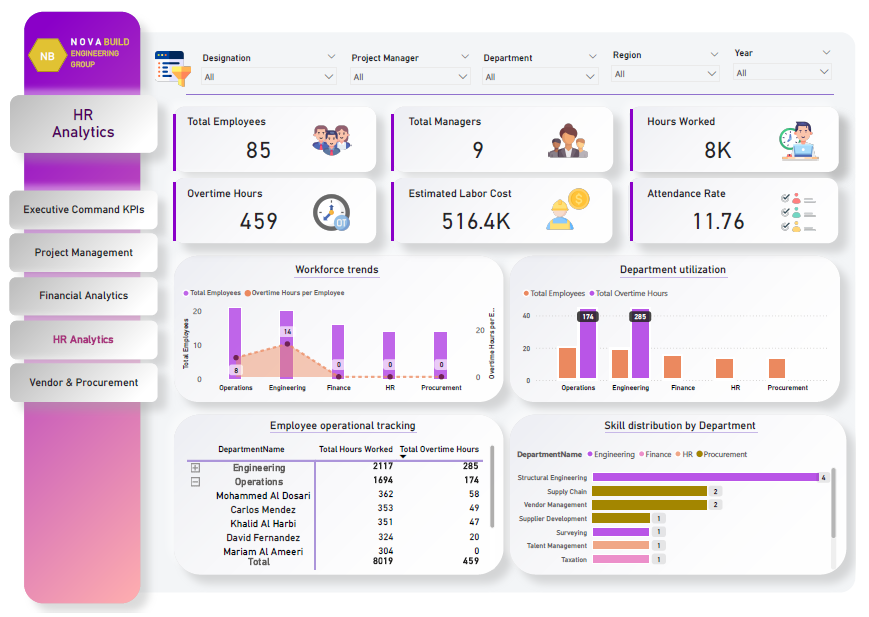

The page's visual inventory and layout, read from the dashboard file:
{"tool":"powerbi","page":{"name":"HR Analytics","canvas":[1380,980],"ordinal":4},"visuals":[{"type":"shape","box":[63.9,68.1,61.9,51.5],"z":0,"group":"g1"},{"type":"cardVisual","fields":{"Data":["Measures Table.Total Employees"]},"box":[287.2,176.6,277.7,103.2],"z":0},{"type":"textbox","box":[74.2,80.4,40.2,35.1],"z":1000,"group":"g1"},{"type":"cardVisual","fields":{"Data":["Measures Table.Total Hours Worked"]},"box":[1005.3,169.1,283,110.6],"z":1000},{"type":"textbox","box":[125.8,58.8,121.6,60.8],"z":2000,"group":"g1"},{"type":"cardVisual","fields":{"Data":["Measures Table.Total Overtime Hours"]},"box":[287.2,283,277.7,107.4],"z":2000},{"type":"cardVisual","fields":{"Data":["Measures Table.Attendance Rate"]},"box":[1005.3,283,283,107.4],"z":3000},{"type":"cardVisual","fields":{"Data":["Measures Table.Labor Cost Estimate"]},"box":[628.7,283,274.5,107.4],"z":4000},{"type":"clusteredColumnChart","fields":{"Category":["DimDepartment.DepartmentName"],"Y":["Measures Table.Total Employees","Measures Table.Total Overtime Hours"]},"box":[835.1,447.9,491.5,181.9],"z":5000},{"type":"lineStackedColumnComboChart","fields":{"Category":["DimDepartment.DepartmentName"],"Y":["Measures Table.Total Employees"],"Y2":["Measures Table.Overtime Hours per Employee"]},"box":[301.1,447.9,501.1,181.9],"z":6000},{"type":"barChart","fields":{"Category":["DimEmployee.SkillCategory"],"Y":["Measures Table.Total Employees"],"Series":["DimDepartment.DepartmentName"]},"box":[825.5,700,511.7,206.4],"z":7000},{"type":"pivotTable","fields":{"Rows":["DimDepartment.DepartmentName","DimEmployee.EmployeeName"],"Values":["Measures Table.Total Hours Worked","Measures Table.Total Overtime Hours"]},"box":[308.5,700,493.6,206.4],"z":8000},{"type":"cardVisual","fields":{"Data":["Measures Table.Total Managers"]},"box":[628.7,176.6,281.9,103.2],"z":9000},{"type":"pageNavigator","box":[35.9,305.4,231.5,331.5],"z":10000},{"type":"textbox","box":[34.4,168.9,232.8,82],"z":11000},{"type":"textbox","box":[308.5,181.9,198.9,35.1],"z":12000},{"type":"textbox","box":[656.4,181.9,198.9,35.1],"z":13000},{"type":"textbox","box":[1030.9,181.9,198.9,35.1],"z":14000},{"type":"textbox","box":[308.5,295.7,198.9,35.1],"z":15000},{"type":"textbox","box":[656.4,295.7,198.9,35.1],"z":16000},{"type":"textbox","box":[1030.9,295.7,198.9,35.1],"z":17000},{"type":"shape","box":[481.7,417.4,133,50.5],"z":18000},{"type":"textbox","box":[299,415,499,33],"z":19000},{"type":"textbox","box":[825.5,414.9,500,33],"z":20000},{"type":"shape","box":[993.6,417.4,167,50.5],"z":21000},{"type":"textbox","box":[837.2,659.6,500,33],"z":22000},{"type":"shape","box":[969.7,659.6,239.4,51.4],"z":23000},{"type":"textbox","box":[308.3,659.6,500,33],"z":24000},{"type":"shape","box":[445,661.5,229.4,50.5],"z":25000},{"type":"image","box":[256.8,83,68.2,64.8],"z":26000},{"type":"group","id":"g1","title":"Group 3","box":[63.9,58.8,183.5,60.8],"z":27000},{"type":"shape","box":[311.7,140,1016.7,30],"z":28000},{"type":"slicer","fields":{"Values":["DimRegion.Region"]},"box":[969.3,80.7,190.9,60.2],"z":29000},{"type":"slicer","fields":{"Values":["DimDate.Year"]},"box":[1160.2,78.4,176.1,61.4],"z":30000},{"type":"slicer","fields":{"Values":["DimProjects.DepartmentID"]},"box":[765.9,85.2,203.4,60.2],"z":31000},{"type":"slicer","fields":{"Values":["DimProjects.ProjectManagerName"]},"box":[559.1,85.2,210.2,60.2],"z":32000},{"type":"slicer","fields":{"Values":["DimEmployee.Designation"]},"box":[325,85.2,234.1,61.4],"z":33000},{"type":"image","box":[496.6,193.2,86.4,70.5],"z":34000},{"type":"image","box":[868.2,193.2,86.4,70.5],"z":35000},{"type":"image","box":[1229.5,193.2,86.4,70.5],"z":36000},{"type":"image","box":[496.6,305.7,86.4,70.5],"z":37000},{"type":"image","box":[868.2,295.5,86.4,80.7],"z":38000},{"type":"image","box":[1229.5,305.7,86.4,70.5],"z":39000}]}

Visuals, with their boxes in screenshot pixels (x1, y1, x2, y2), scaled from the page's 1380x980 canvas onto the 869x617 screenshot:
shape: locate(40, 43, 79, 75)
cardVisual - Measures Table.Total Employees: locate(181, 111, 356, 176)
textbox: locate(47, 51, 72, 73)
cardVisual - Measures Table.Total Hours Worked: locate(633, 106, 811, 176)
textbox: locate(79, 37, 156, 75)
cardVisual - Measures Table.Total Overtime Hours: locate(181, 178, 356, 246)
cardVisual - Measures Table.Attendance Rate: locate(633, 178, 811, 246)
cardVisual - Measures Table.Labor Cost Estimate: locate(396, 178, 569, 246)
clusteredColumnChart - DimDepartment.DepartmentName x Measures Table.Total Employees: locate(526, 282, 835, 397)
lineStackedColumnComboChart - DimDepartment.DepartmentName x Measures Table.Total Employees: locate(190, 282, 505, 397)
barChart - DimEmployee.SkillCategory x Measures Table.Total Employees: locate(520, 441, 842, 571)
pivotTable - DimDepartment.DepartmentName x DimEmployee.EmployeeName: locate(194, 441, 505, 571)
cardVisual - Measures Table.Total Managers: locate(396, 111, 573, 176)
pageNavigator: locate(23, 192, 168, 401)
textbox: locate(22, 106, 168, 158)
textbox: locate(194, 115, 320, 137)
textbox: locate(413, 115, 539, 137)
textbox: locate(649, 115, 774, 137)
textbox: locate(194, 186, 320, 208)
textbox: locate(413, 186, 539, 208)
textbox: locate(649, 186, 774, 208)
shape: locate(303, 263, 387, 295)
textbox: locate(188, 261, 503, 282)
textbox: locate(520, 261, 835, 282)
shape: locate(626, 263, 731, 295)
textbox: locate(527, 415, 842, 436)
shape: locate(611, 415, 761, 448)
textbox: locate(194, 415, 509, 436)
shape: locate(280, 416, 425, 448)
image: locate(162, 52, 205, 93)
"Group 3" group: locate(40, 37, 156, 75)
shape: locate(196, 88, 837, 107)
slicer - DimRegion.Region: locate(610, 51, 731, 89)
slicer - DimDate.Year: locate(731, 49, 841, 88)
slicer - DimProjects.DepartmentID: locate(482, 54, 610, 92)
slicer - DimProjects.ProjectManagerName: locate(352, 54, 484, 92)
slicer - DimEmployee.Designation: locate(205, 54, 352, 92)
image: locate(313, 122, 367, 166)
image: locate(547, 122, 601, 166)
image: locate(774, 122, 829, 166)
image: locate(313, 192, 367, 237)
image: locate(547, 186, 601, 237)
image: locate(774, 192, 829, 237)
